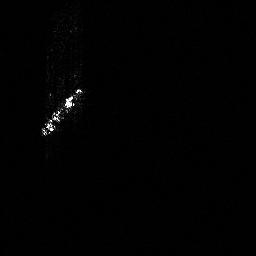ship: (39, 85, 86, 138)
